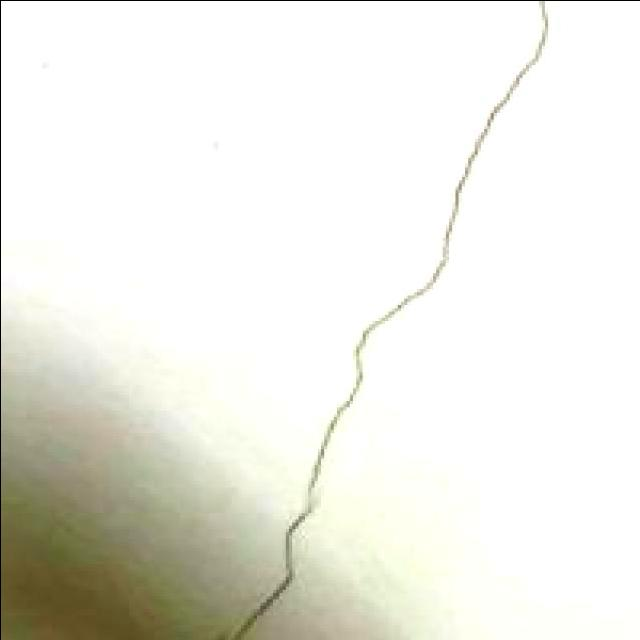SurfaceCrack: (200, 0, 562, 640)
